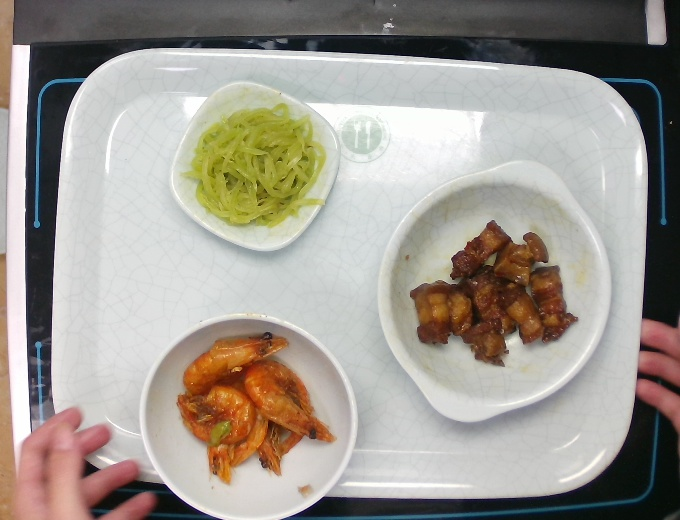JYsf-Fan_Wan: (135, 309, 360, 520)
JYsf-Shuang_Er_Wan: (375, 156, 616, 429)
JYsf-Si_Fang_Die: (169, 74, 339, 248)
